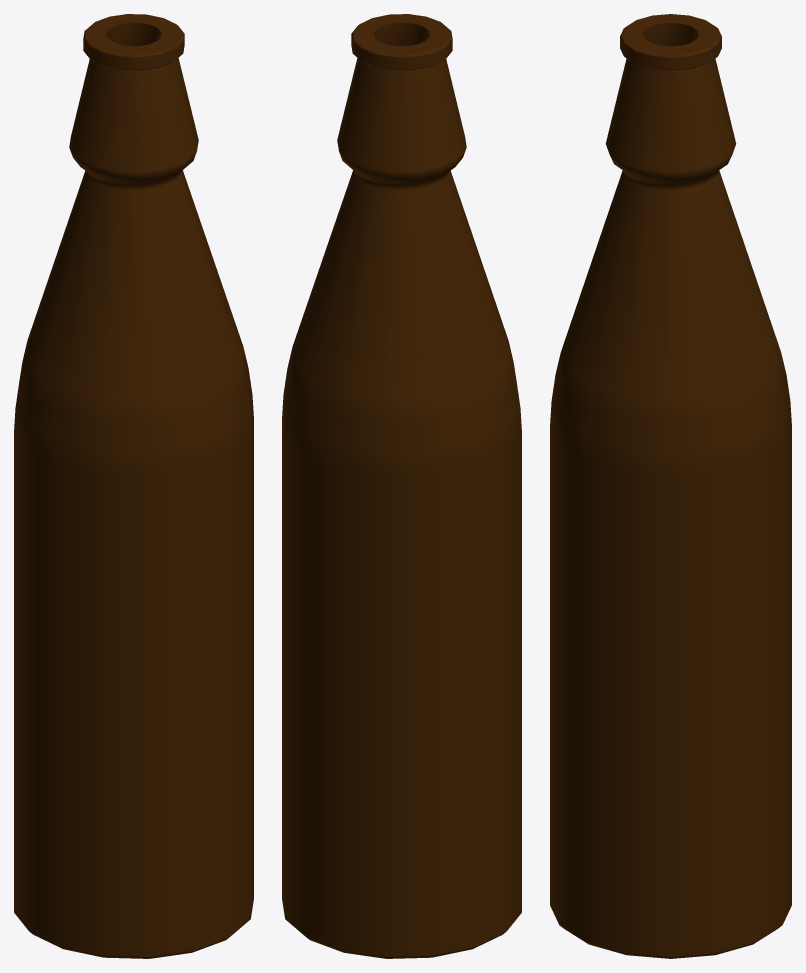
File: GlassBottle.obj
3 views of the same model, side by side, from view 1: azimuth 30°, elevation 25°; view 2: azimuth 150°, elevation 25°; view 3: azimuth 270°, elevation 25° (orthographic).
Visible parts, largest first — view 1: Circle; view 2: Circle; view 3: Circle.
Boxes of the visible parts, x1,y1,x2,y2 form: Circle: (14,14,253,958); Circle: (282,14,521,958); Circle: (550,14,791,958).
Size of the model in its own units: 0.375 by 1.5 by 0.375.
Materials: 1 (1 with a texture image).
